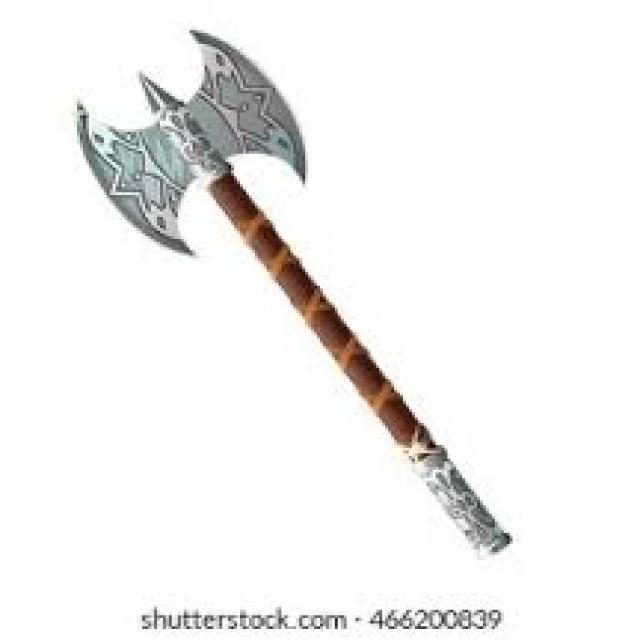Gun: (53, 37, 520, 564)
